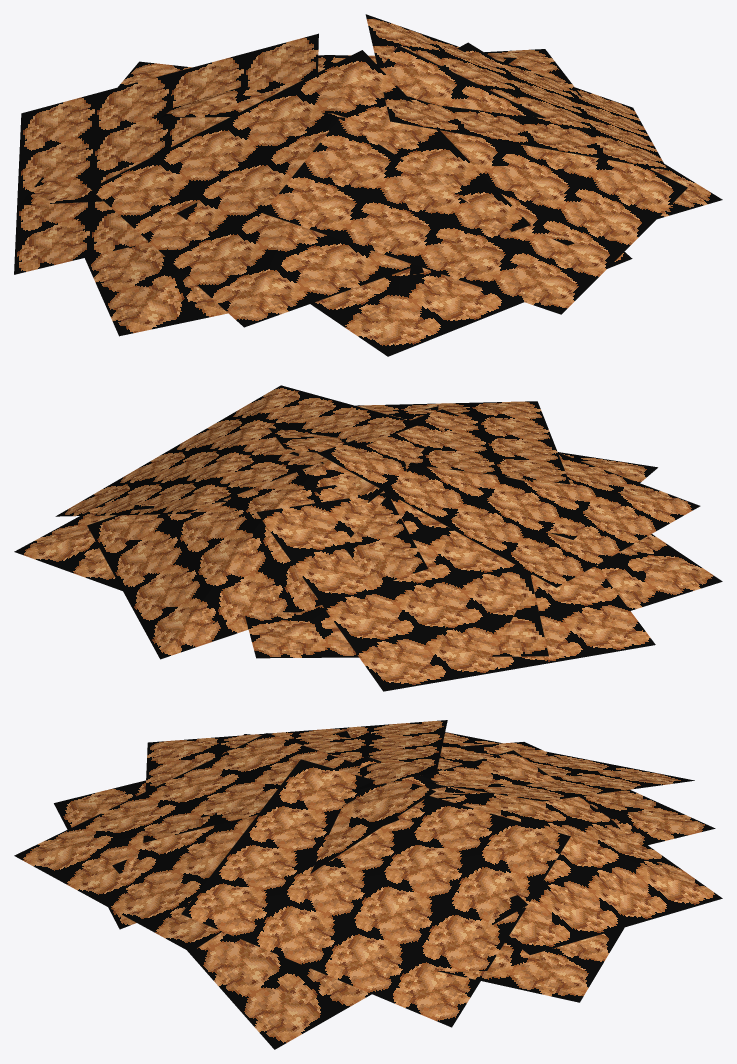
Rendered from 1104item575.gltf.
3 renders of one model, top to bottom at view 1: azimuth 30°, elevation 25°; view 2: azimuth 150°, elevation 25°; view 3: azimuth 270°, elevation 25°, orthographic. The views are drawn at different scales.
Parts seen in each view (by area): view 1: 1104item575; view 2: 1104item575; view 3: 1104item575.
Boxes of the visible parts, x1,y1,x2,y2 form: 1104item575: (14,14,722,356); 1104item575: (14,385,722,691); 1104item575: (14,720,722,1049).
Bounding box in the file's own units: 0.6006 × 0.1402 × 0.601.
Materials: 1 (1 with a texture image).
